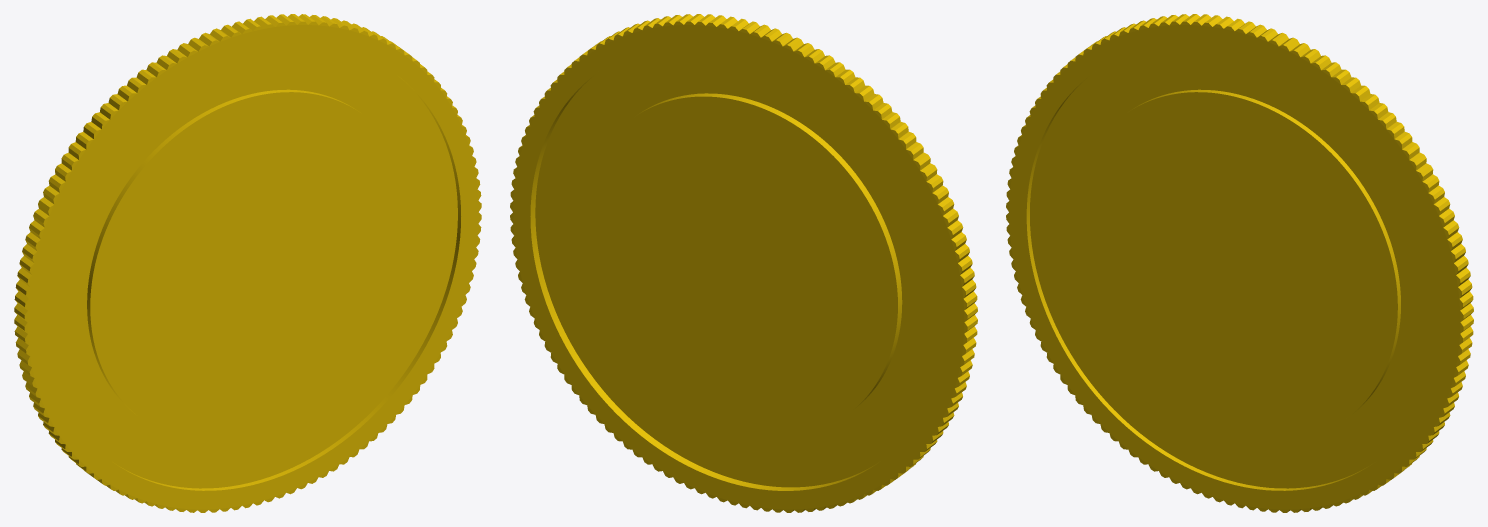
Rendered from amyCOIN.fbx.
The picture shows the model from 3 angles, left to right: view 1: azimuth 30°, elevation 25°; view 2: azimuth 150°, elevation 25°; view 3: azimuth 330°, elevation 25°; orthographic projection.
Visible parts, largest first — view 1: Cylinder; view 2: Cylinder; view 3: Cylinder.
Part boxes in pixels (left/top/right/bottom): Cylinder: left=14, top=14, right=481, bottom=512; Cylinder: left=510, top=14, right=977, bottom=512; Cylinder: left=1006, top=14, right=1473, bottom=512.
Bounding box in the file's own units: 203 × 203 × 8.14.
